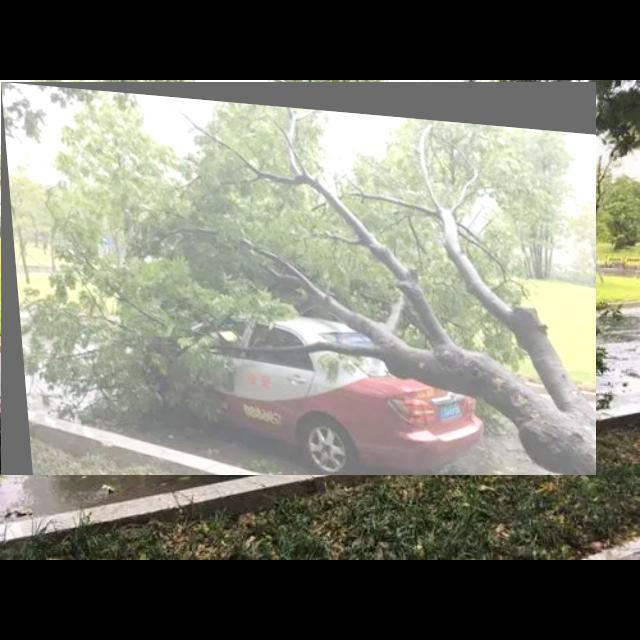fallen_tree: (1, 82, 597, 476)
